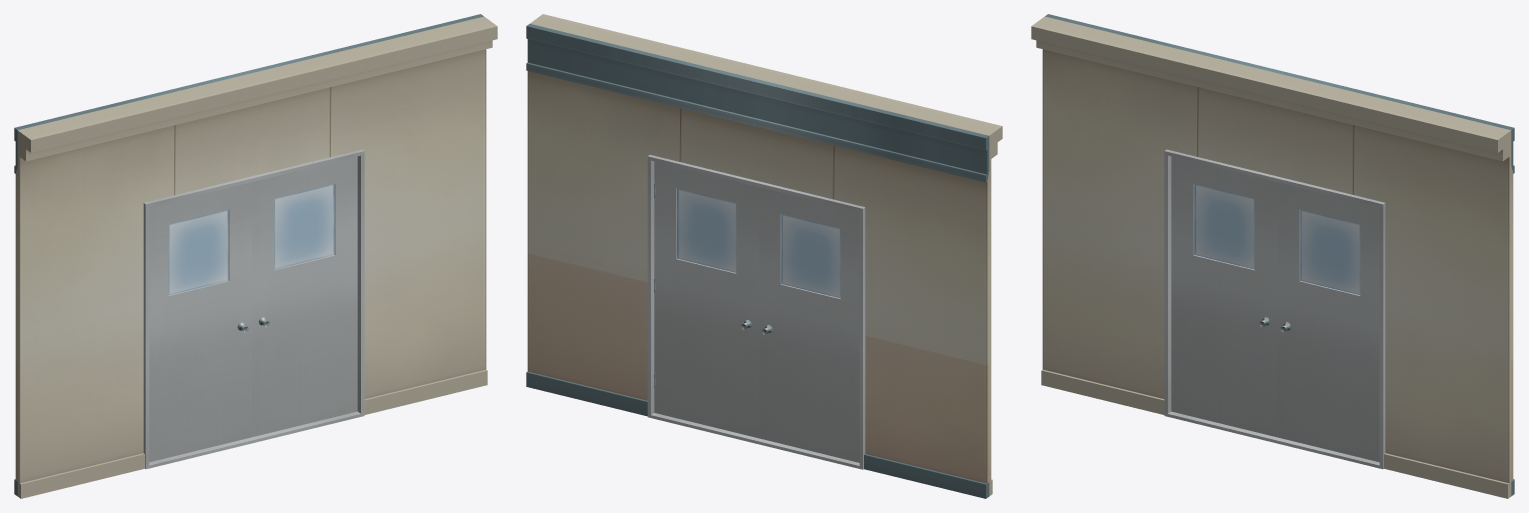
Rendered from SHW_Door_02_02.fbx.
The picture shows the model from 3 angles, left to right: view 1: azimuth 30°, elevation 25°; view 2: azimuth 150°, elevation 25°; view 3: azimuth 330°, elevation 25°; orthographic projection.
Visible parts, largest first — view 1: wall01, door02, door01, glass_01 (×2), door_frame01; view 2: wall01, door02, door01, glass_02 (×2), door_frame01; view 3: wall01, door01, door02, glass_01 (×2), door_frame01.
Boxes of the visible parts, x1,y1,x2,y2 form: wall01: (14, 14, 497, 498); door02: (252, 156, 357, 437); door01: (149, 182, 251, 462); glass_01 (×2): (168, 184, 334, 295); door_frame01: (143, 149, 364, 469); wall01: (526, 14, 1002, 498); door02: (654, 161, 758, 438); door01: (758, 187, 859, 462); glass_02 (×2): (677, 188, 840, 298); door_frame01: (647, 155, 865, 469); wall01: (1031, 14, 1514, 498); door01: (1171, 156, 1276, 437); door02: (1277, 182, 1379, 462); glass_01 (×2): (1194, 184, 1360, 295); door_frame01: (1164, 149, 1385, 469).
Bounding box in the file's own units: 400 × 300 × 28.
